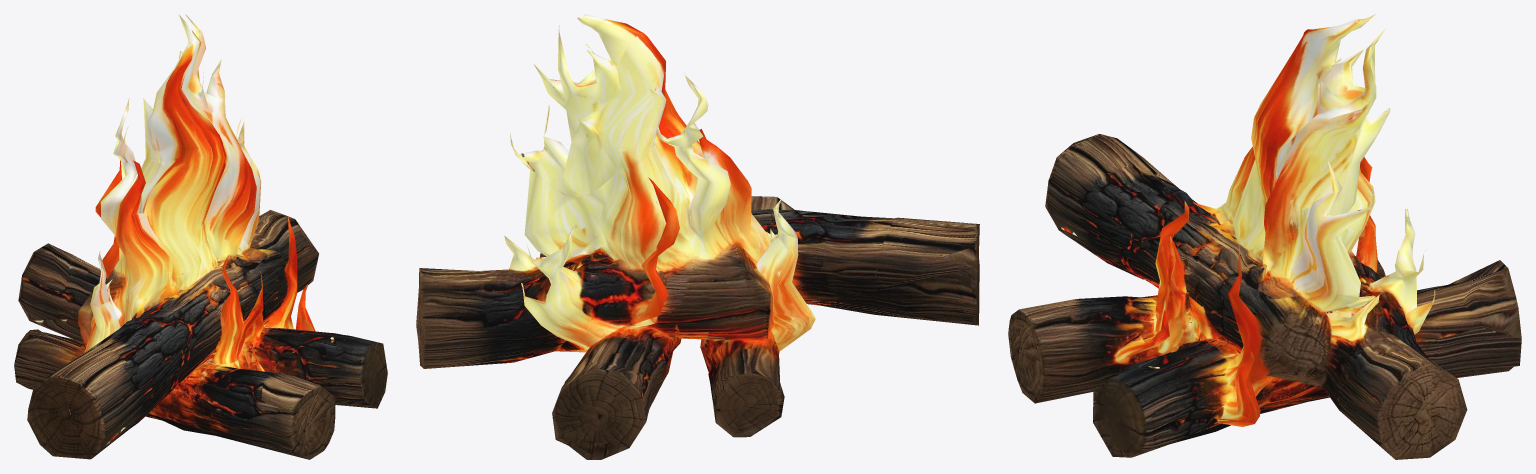
File: campfire.glb
3 views of the same model, side by side, from view 1: azimuth 30°, elevation 25°; view 2: azimuth 150°, elevation 25°; view 3: azimuth 270°, elevation 25° (orthographic). The views are drawn at different scales.
Bounding box in the file's own units: 1.89 × 1.55 × 1.81.
Materials: 1 (1 with a texture image).
